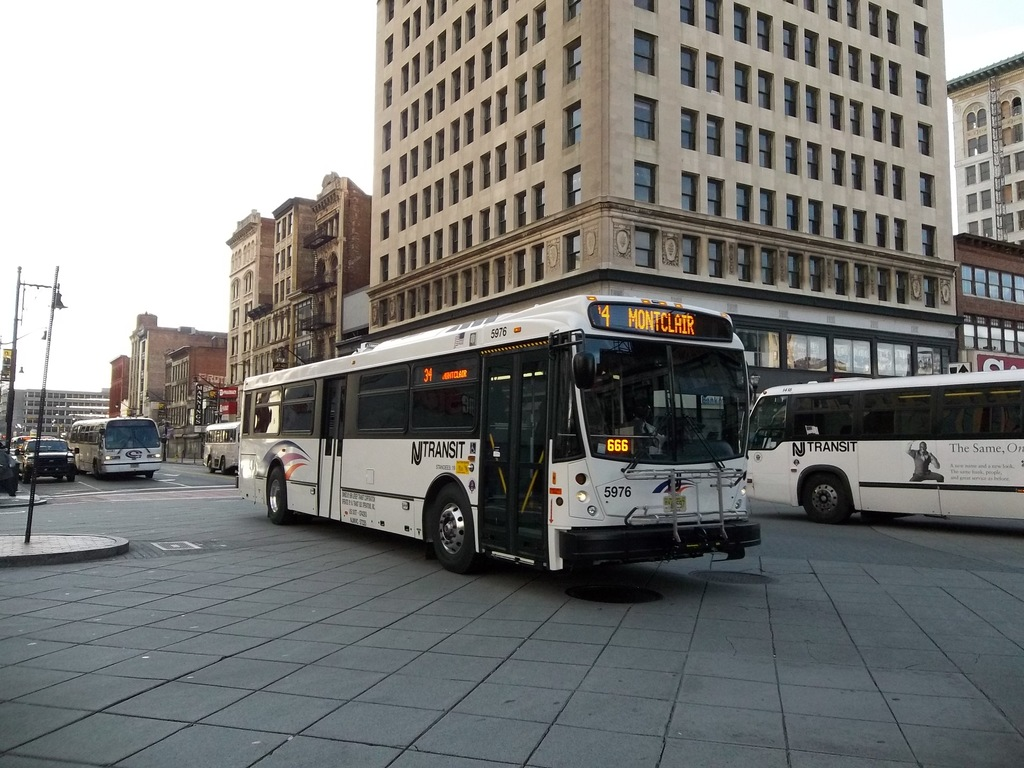Bus: (233, 293, 759, 576), (748, 380, 1023, 524), (64, 416, 165, 481), (206, 423, 238, 473)
